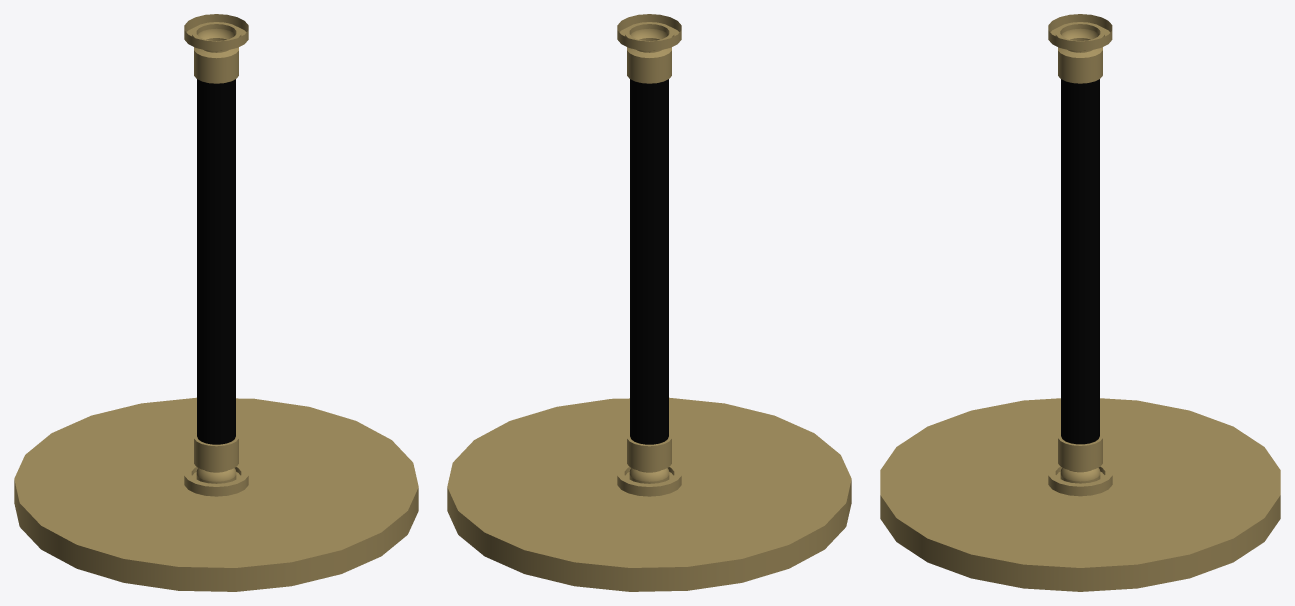
Rendered from STICK_BOHEME_06.glb.
The picture shows the model from 3 angles, left to right: view 1: azimuth 30°, elevation 25°; view 2: azimuth 150°, elevation 25°; view 3: azimuth 270°, elevation 25°; orthographic projection.
Parts seen in each view (by area): view 1: Group002, Group008; view 2: Group002, Group008; view 3: Group002, Group008.
Part boxes in pixels (left/top/right/bottom): Group002: left=14, top=14, right=418, bottom=591; Group008: left=197, top=79, right=235, bottom=444; Group002: left=447, top=14, right=851, bottom=591; Group008: left=630, top=79, right=668, bottom=444; Group002: left=880, top=14, right=1280, bottom=591; Group008: left=1061, top=79, right=1099, bottom=444.
Bounding box in the file's own units: 0.23 × 0.3027 × 0.2277.
